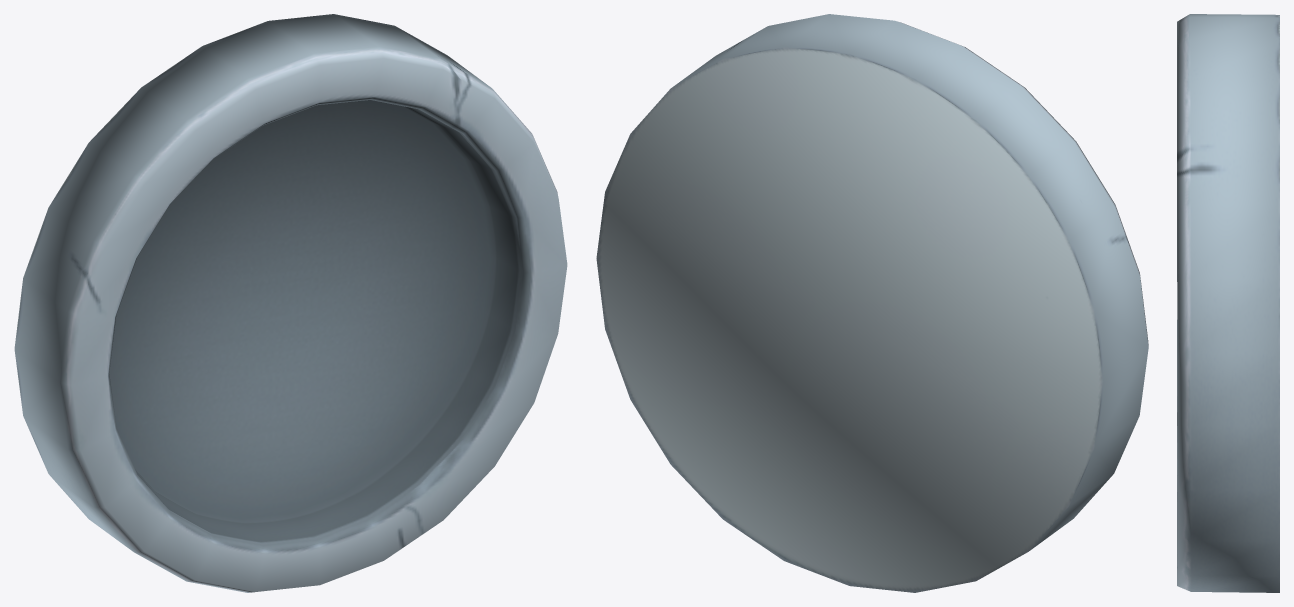
File: cost.glb
3 views of the same model, side by side, from view 1: azimuth 30°, elevation 25°; view 2: azimuth 150°, elevation 25°; view 3: azimuth 270°, elevation 25° (orthographic).
Visible parts, largest first — view 1: CostMarker_Base; view 2: CostMarker_Base; view 3: CostMarker_Base.
Part boxes in pixels (<box>): CostMarker_Base: <box>14,14,567,592</box>; CostMarker_Base: <box>596,14,1148,592</box>; CostMarker_Base: <box>1177,14,1279,592</box>.
Size of the model in its own units: 0.3483 by 0.3496 by 0.0618.
Materials: 1 (1 with a texture image).
